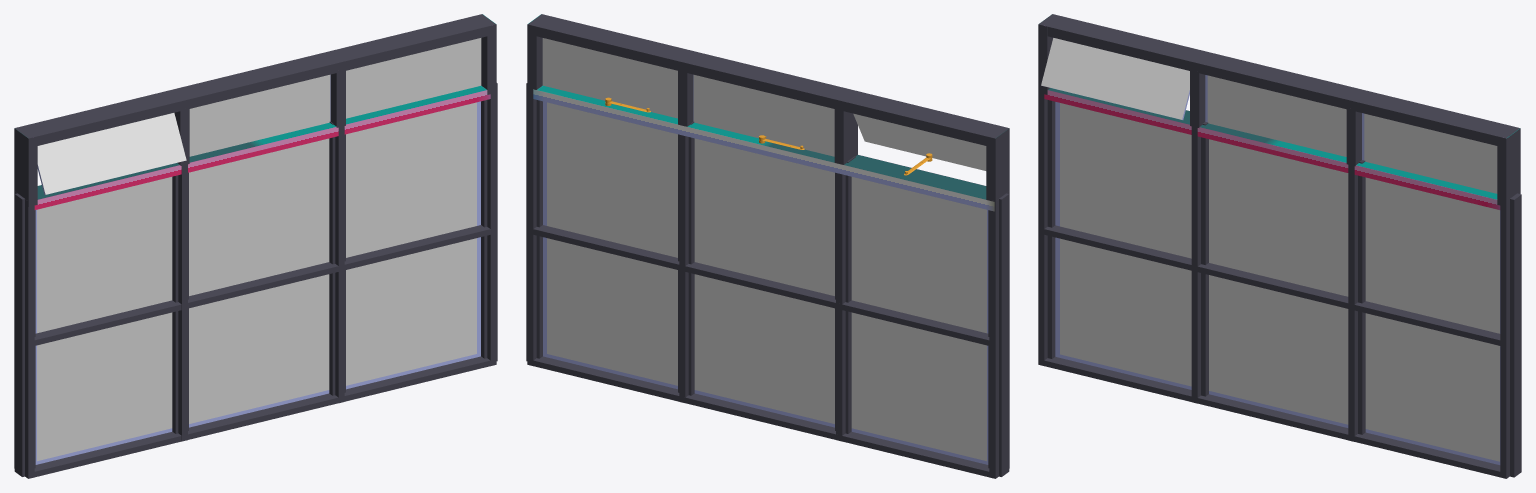
Rendered from Ventana_JuanW_46919034.fbx.
3 renders of one model, left to right at view 1: azimuth 30°, elevation 25°; view 2: azimuth 150°, elevation 25°; view 3: azimuth 330°, elevation 25°, orthographic.
Parts seen in each view (by area): view 1: VentanaElegante; view 2: VentanaElegante; view 3: VentanaElegante.
Part boxes in pixels (x1,y1,x2,y2): VentanaElegante: (14,14,497,478); VentanaElegante: (526,14,1009,478); VentanaElegante: (1038,14,1521,478).
Bounding box in the file's own units: 309 × 211 × 32.74.
2 materials, 1 textured.
